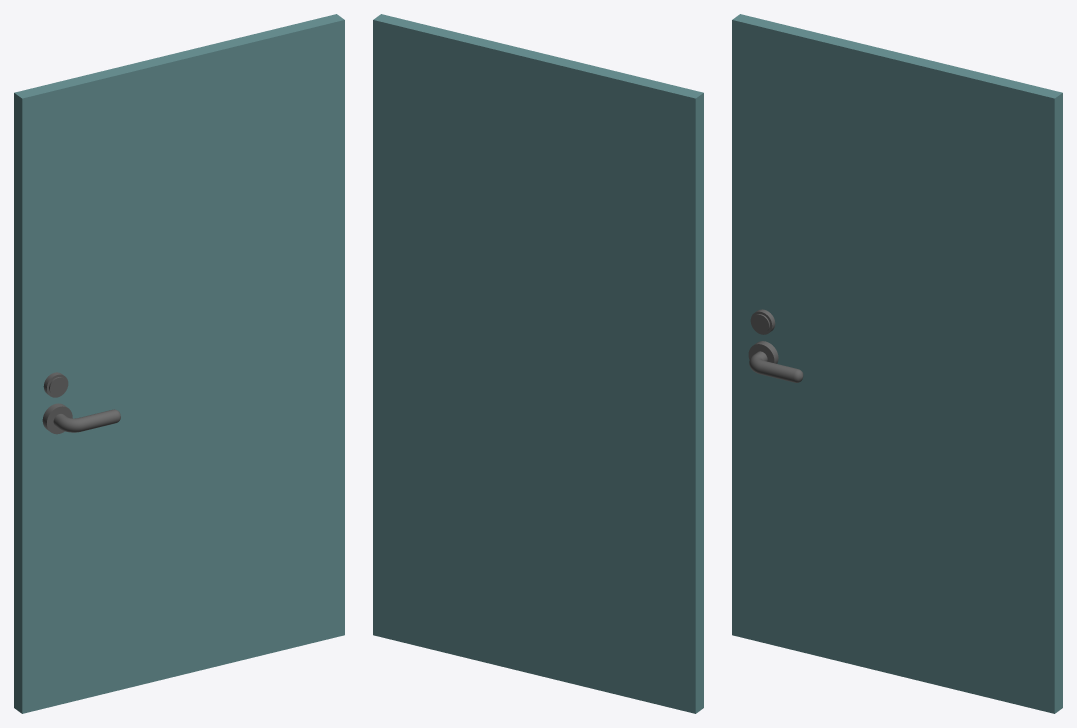
File: Door.fbx
3 renders of one model, left to right at view 1: azimuth 30°, elevation 25°; view 2: azimuth 150°, elevation 25°; view 3: azimuth 330°, elevation 25°, orthographic.
Parts seen in each view (by area): view 1: door; view 2: door; view 3: door.
Part boxes in pixels (left/top/right/bottom): door: left=14, top=14, right=344, bottom=713; door: left=373, top=14, right=703, bottom=713; door: left=732, top=14, right=1062, bottom=713.
Bounding box in the file's own units: 227 × 413 × 30.82.
